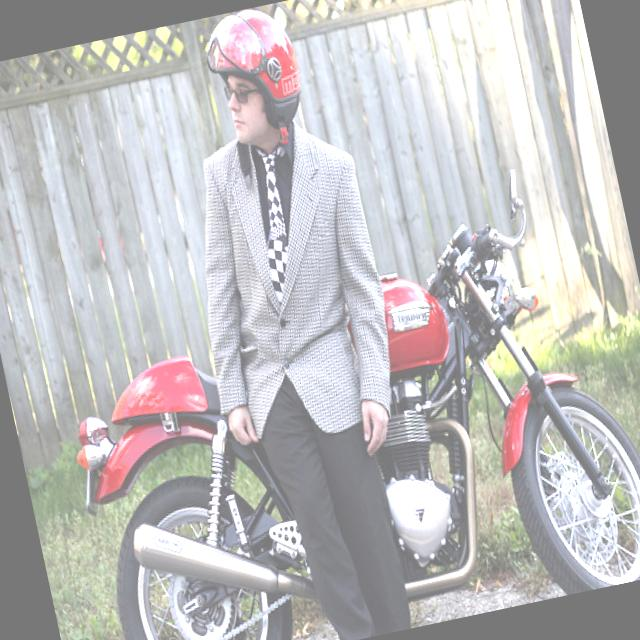Vehicle: (34, 147, 640, 640)
